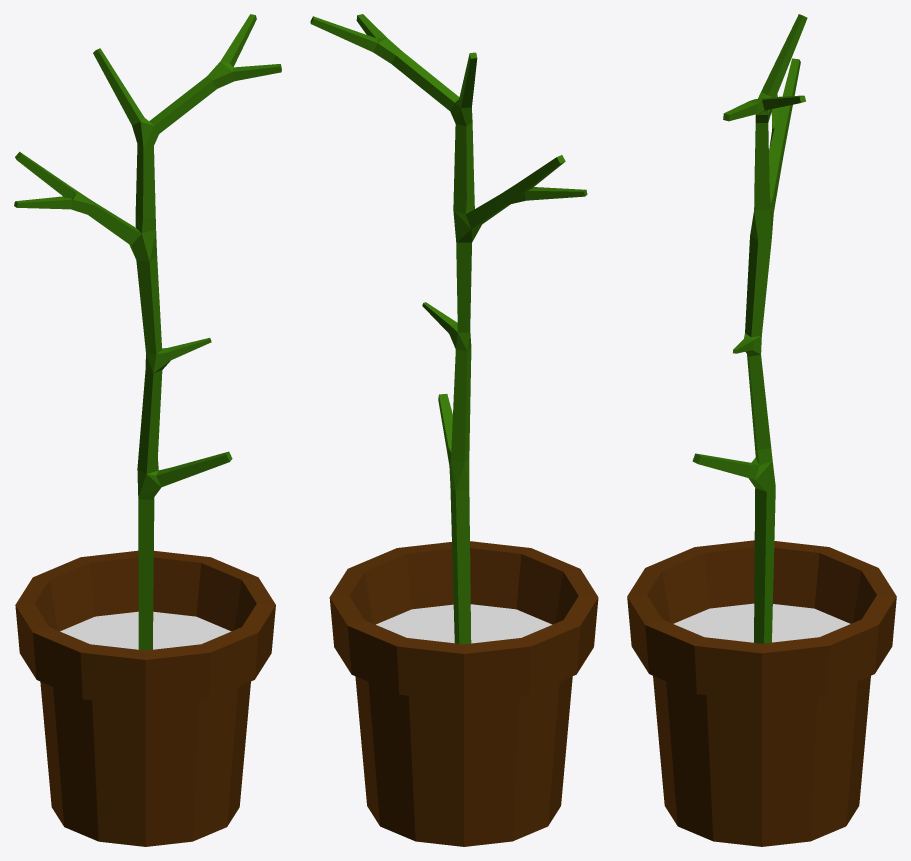
The model's file is Plant_Type_1.fbx.
The picture shows the model from 3 angles, left to right: view 1: azimuth 30°, elevation 25°; view 2: azimuth 150°, elevation 25°; view 3: azimuth 270°, elevation 25°; orthographic projection. The views are drawn at different scales.
Visible parts, largest first — view 1: Container, Plant; view 2: Container, Plant; view 3: Container, Plant.
Part boxes in pixels (left/top/right/bottom): Container: left=15, top=550, right=275, bottom=846; Plant: left=14, top=14, right=281, bottom=650; Container: left=329, top=541, right=598, bottom=846; Plant: left=310, top=14, right=587, bottom=644; Container: left=627, top=540, right=896, bottom=846; Plant: left=692, top=14, right=807, bottom=643.
Size of the model in its own units: 262 by 737 by 232.
